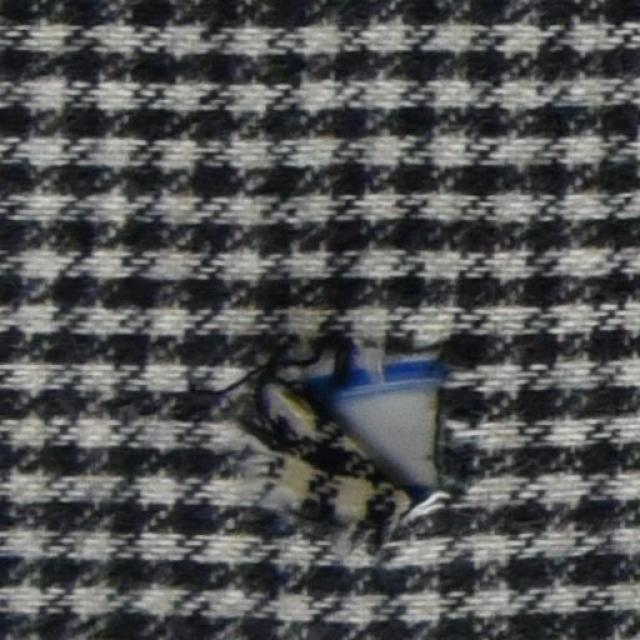Hole: (311, 359, 442, 484)
Snag: (245, 354, 419, 548)
